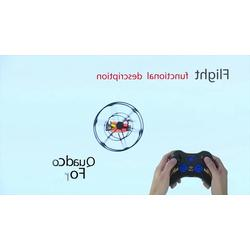drone: (93, 101, 146, 151)
